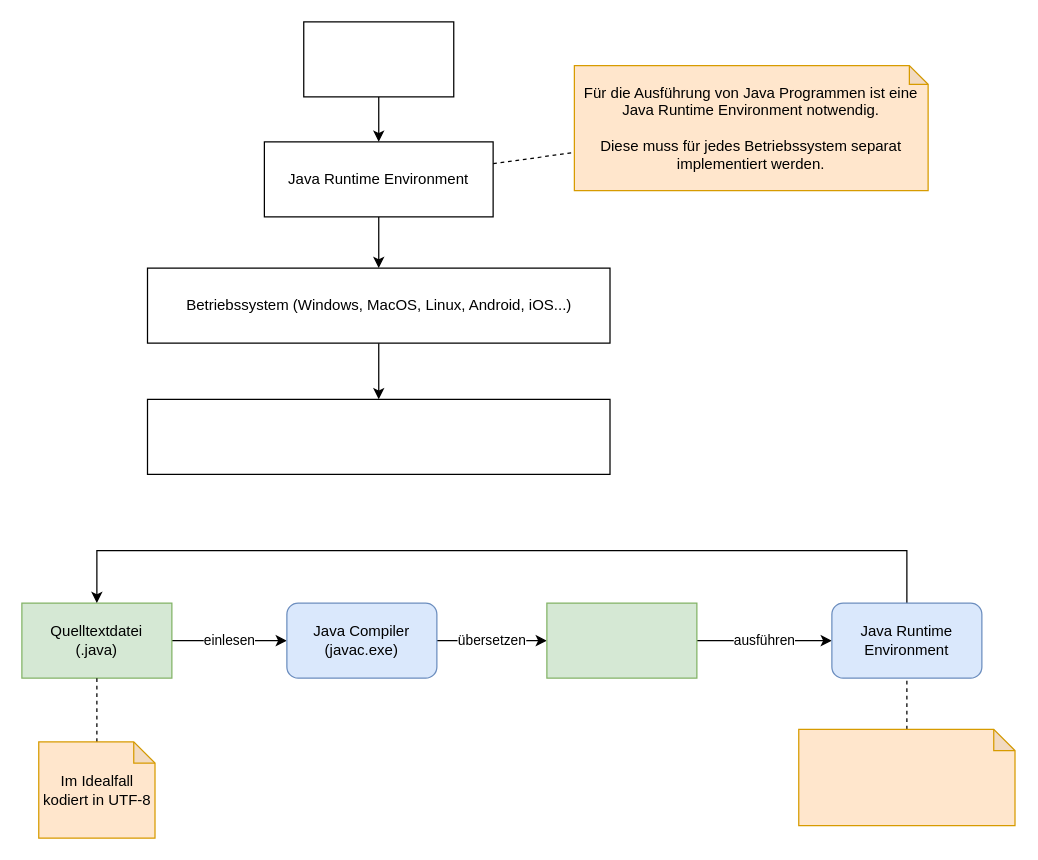
This 1038x860 diagram has some shape labels left out. The box of each missing label's shape, as (x1, y1, x2, y2) in pixels:
Hardware: (146, 398, 610, 474)
Java Bytecode Datei (*.class): (546, 602, 697, 678)
Unser Java Programm: (302, 21, 454, 97)
Wird indirekt über den Java Launcher gestartet (java.exe): (798, 728, 1015, 826)
